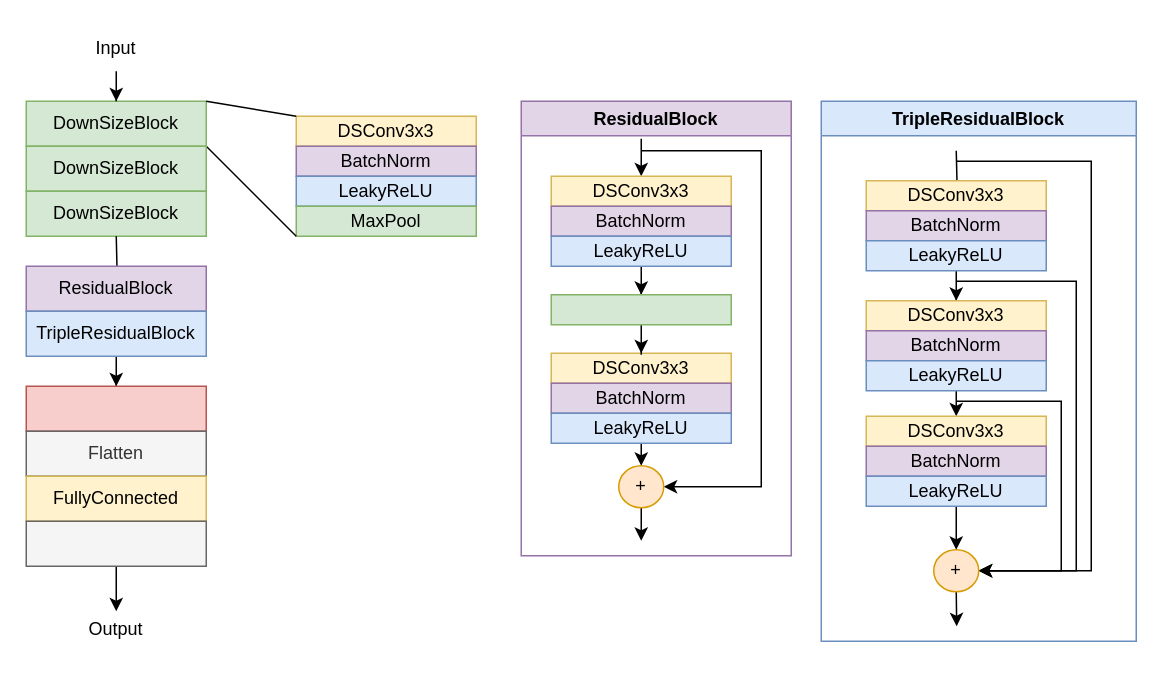
The diagram is 1163 pixels wide and 677 high, and some of its shapes have lost their labels. The centre of each missing label's shape, as x and y in pixels:
AvgPool: the point at 115,408
Dropout: the point at 640,309
Sigmoid: the point at 115,543
